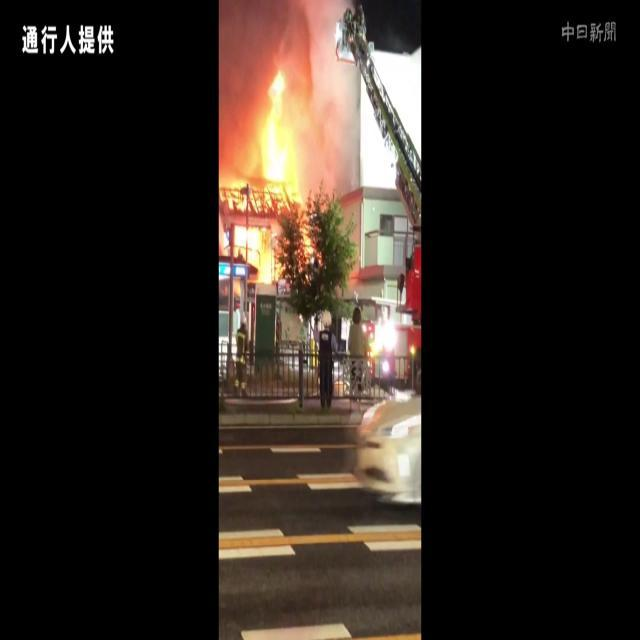Fire: (220, 60, 320, 288)
